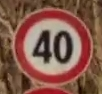limite 40: (10, 5, 95, 83)
